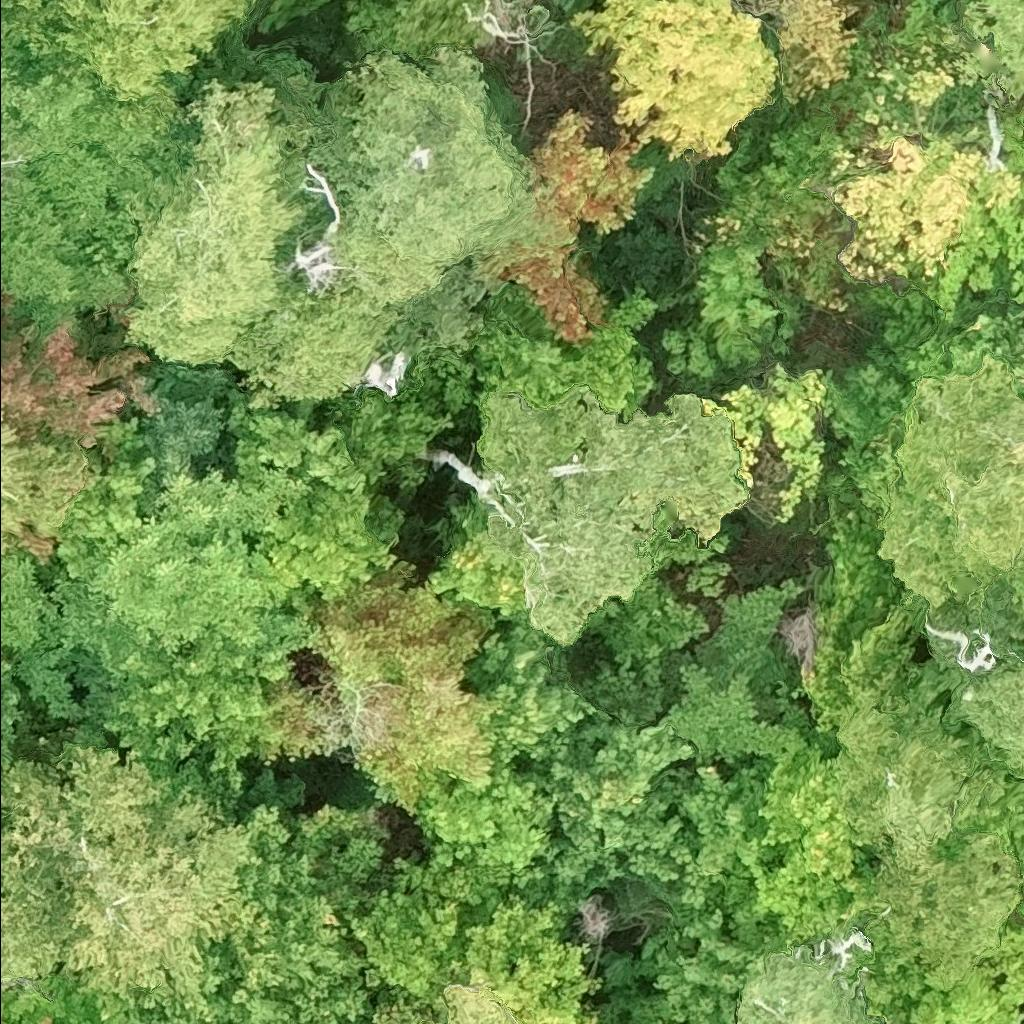crown: (0, 722, 283, 1023), (479, 381, 748, 646), (305, 44, 551, 312), (265, 559, 495, 817), (119, 73, 311, 364), (90, 461, 319, 654), (476, 107, 658, 341), (875, 354, 1023, 608), (571, 0, 779, 162), (96, 630, 292, 796), (724, 731, 854, 947), (535, 719, 699, 890), (0, 288, 154, 458), (0, 0, 258, 100), (266, 426, 407, 605), (828, 687, 980, 849), (828, 133, 986, 283), (863, 831, 1023, 978), (228, 280, 401, 408), (464, 623, 606, 773), (647, 639, 802, 768), (415, 754, 558, 888), (242, 800, 394, 924), (461, 892, 608, 1012), (137, 363, 254, 513), (49, 418, 159, 576), (669, 764, 786, 910), (623, 901, 756, 1023), (350, 876, 464, 998), (732, 0, 861, 106), (0, 410, 88, 561), (927, 187, 1023, 324), (270, 895, 370, 1023), (584, 571, 714, 662), (910, 919, 1023, 1023), (340, 387, 455, 486), (735, 948, 884, 1023), (762, 361, 828, 523), (944, 657, 1023, 772), (423, 532, 526, 618), (464, 963, 597, 1023), (698, 381, 769, 490), (226, 388, 310, 479), (0, 550, 59, 679), (392, 853, 514, 911), (417, 984, 522, 1023), (0, 988, 65, 1023), (245, 991, 295, 1023), (371, 1002, 438, 1023)
